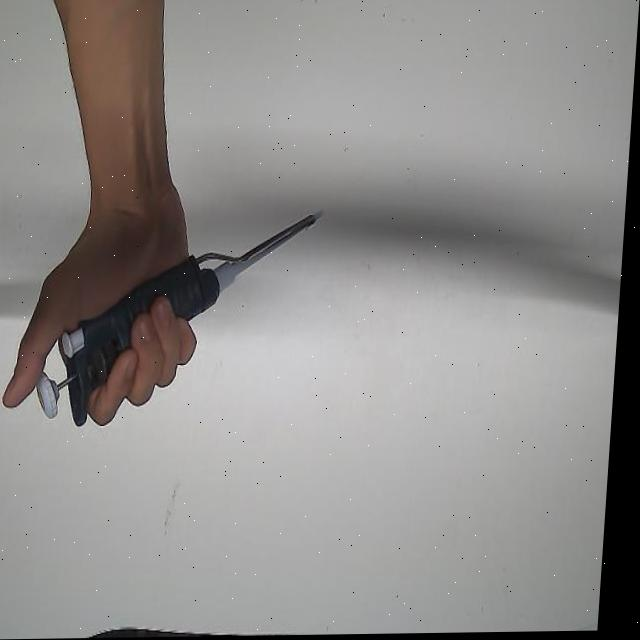Single Channel Pipettor: (39, 204, 333, 429)
